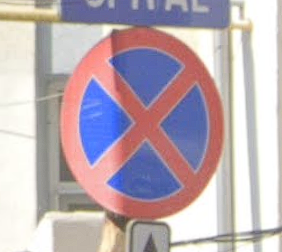oprirea_interzisa: (62, 26, 224, 222)
